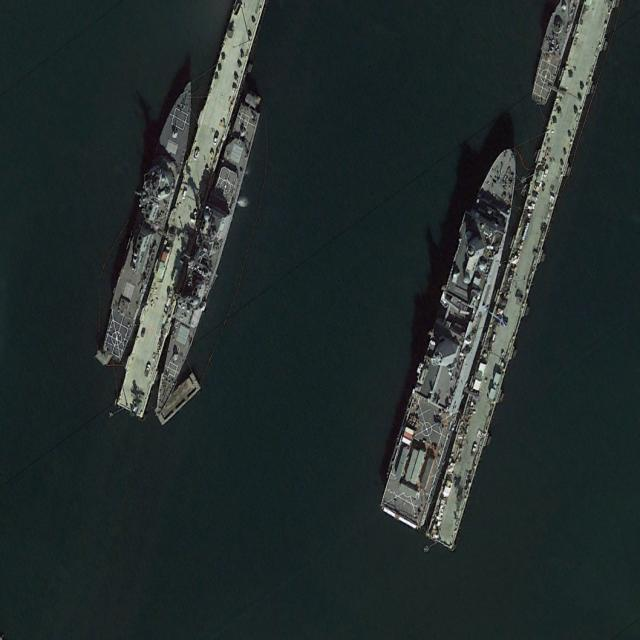Auxiliary Ships: (376, 135, 533, 535)
Cruiser: (146, 97, 263, 424)
Destroyer: (94, 68, 205, 364)
